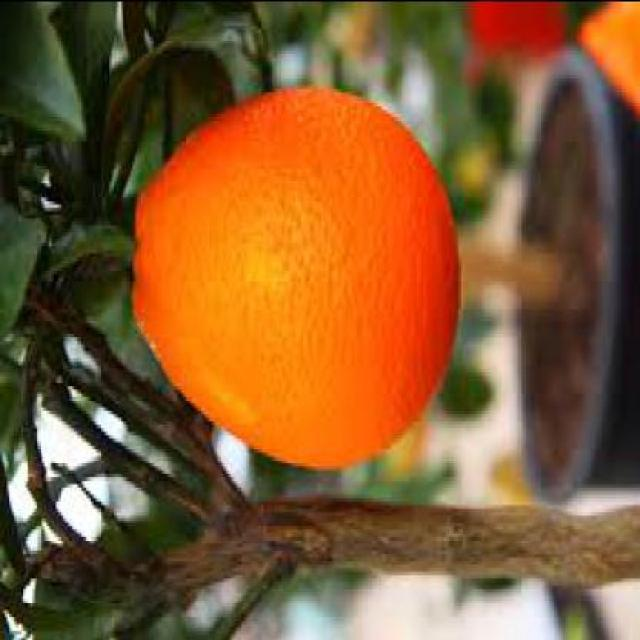BIODEGRADABLE: (132, 88, 458, 472)
